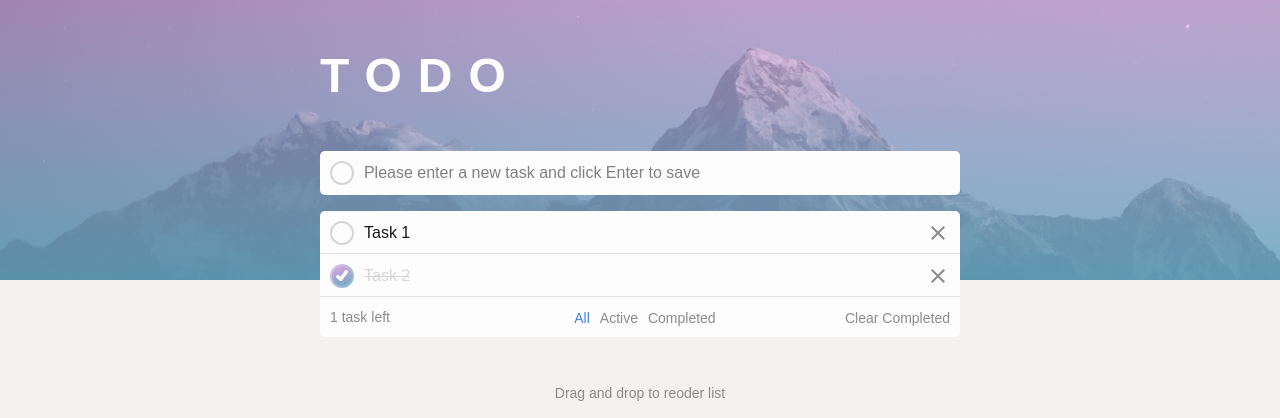
Test: to-do app › can filter for active tasks
Click the button "Active" at [619, 318], box [600,310,638,326]
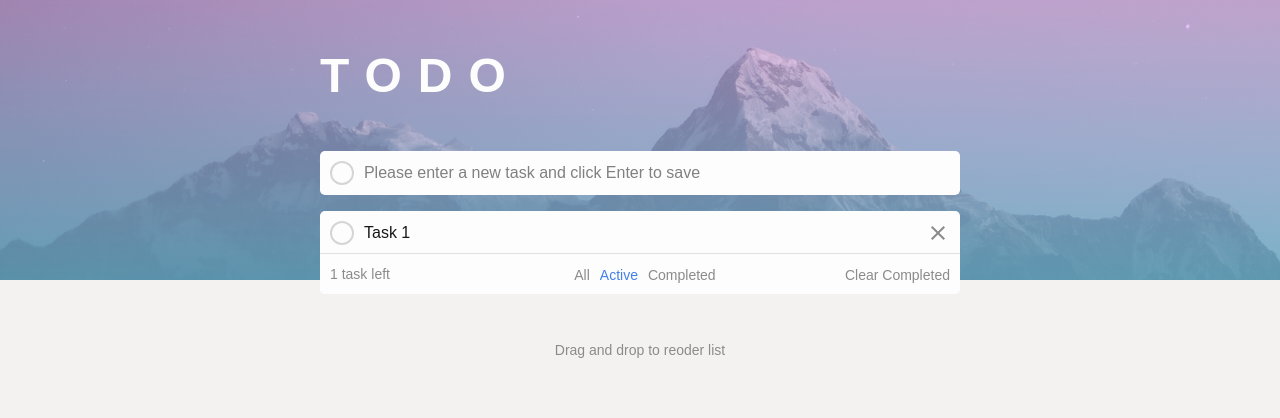
Expected: the number of labels with test id "task" is 1, [364,224,410,242]
